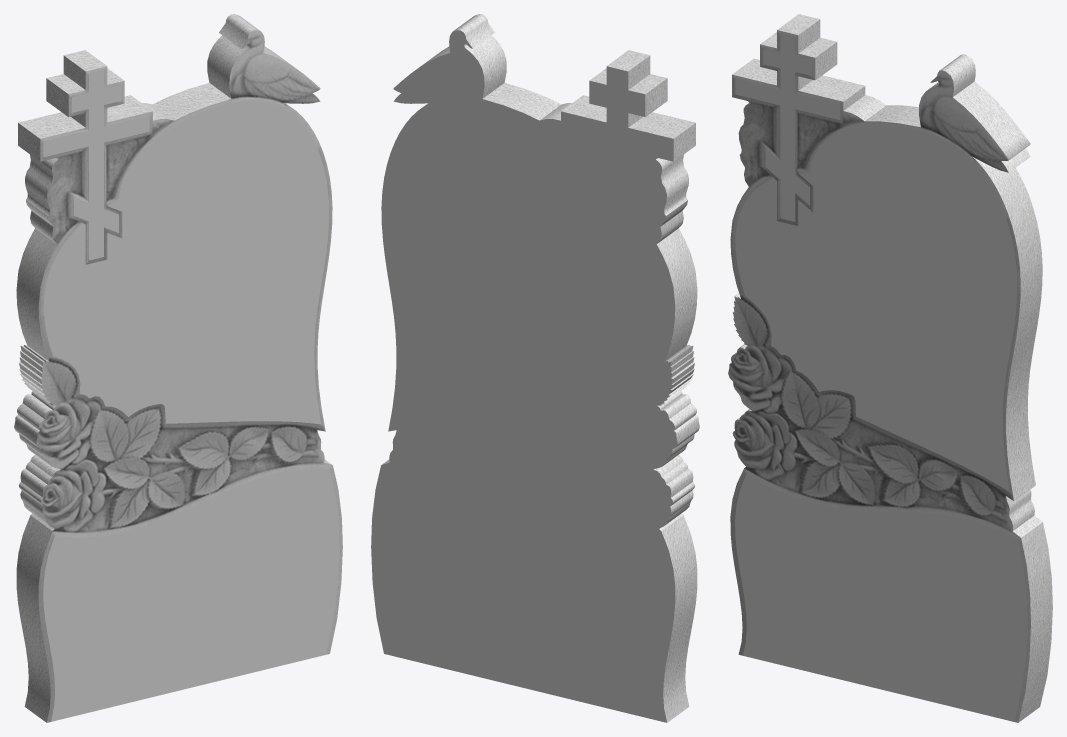
The model's file is cn642aaa2e9d_tkf.glb.
3 views of the same model, side by side, from view 1: azimuth 30°, elevation 25°; view 2: azimuth 150°, elevation 25°; view 3: azimuth 330°, elevation 25° (orthographic).
Visible parts, largest first — view 1: Pam-d03-019, Pam-d03-019_2_notexture; view 2: Pam-d03-019, Pam-d03-019_2_notexture; view 3: Pam-d03-019, Pam-d03-019_2_notexture.
Part boxes in pixels (x1=…): Pam-d03-019: x1=43, y1=70, x2=339, y2=721; Pam-d03-019_2_notexture: x1=14, y1=14, x2=342, y2=722; Pam-d03-019: x1=371, y1=30, x2=677, y2=722; Pam-d03-019_2_notexture: x1=382, y1=14, x2=699, y2=722; Pam-d03-019: x1=735, y1=34, x2=1027, y2=721; Pam-d03-019_2_notexture: x1=728, y1=14, x2=1052, y2=722.
Size of the model in its own units: 0.4 by 0.8 by 0.05.
Materials: 1 (1 with a texture image).
